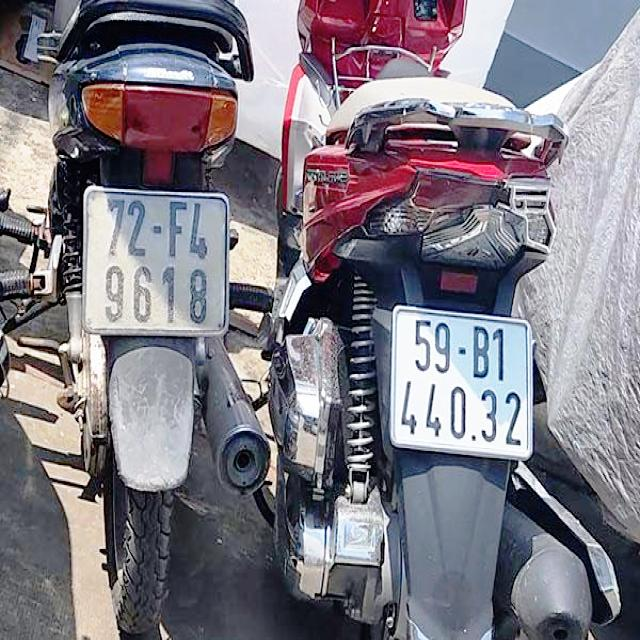license_plate: (391, 311, 535, 455), (86, 192, 231, 332)
